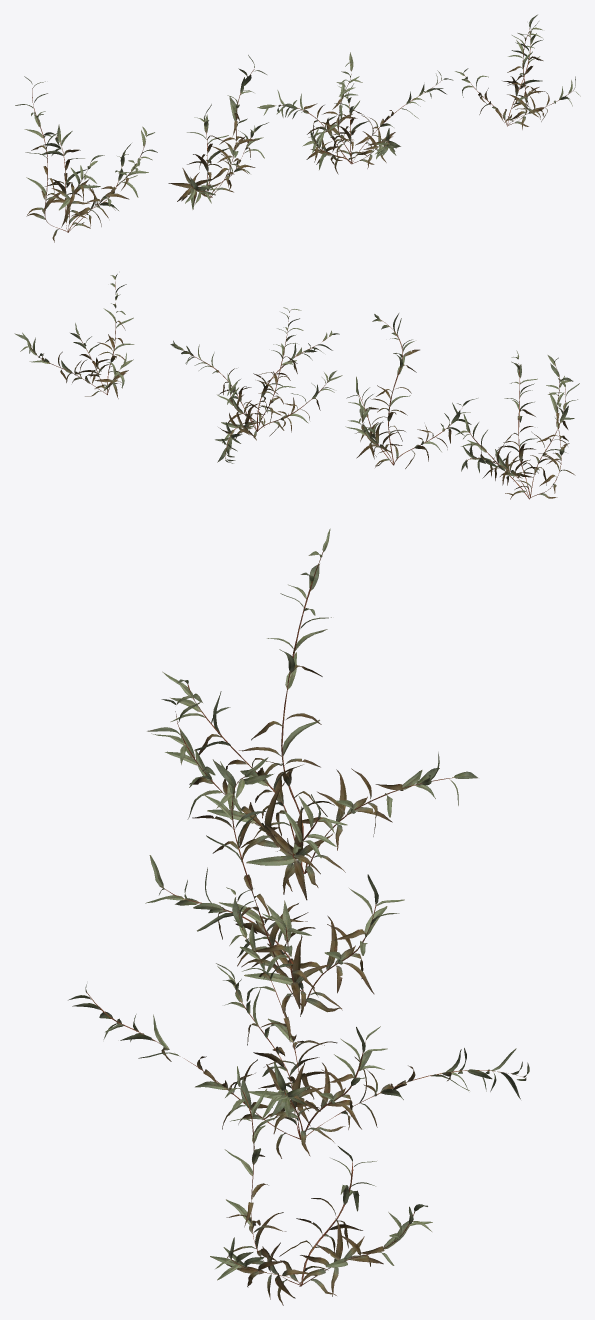
File: shrub_02_1k.glb
The picture shows the model from 3 angles, top to bottom: view 1: azimuth 30°, elevation 25°; view 2: azimuth 150°, elevation 25°; view 3: azimuth 270°, elevation 25°; orthographic projection. The views are drawn at different scales.
Parts seen in each view (by area): view 1: shrub_02_a; view 2: shrub_02_a; view 3: shrub_02_a.
Boxes of the visible parts, x1,y1,x2,y2 form: shrub_02_a: (15, 14, 580, 242); shrub_02_a: (14, 274, 579, 499); shrub_02_a: (68, 528, 529, 1305).
Bounding box in the file's own units: 6.05 × 1.7 × 2.28.
1 material, 1 textured.
